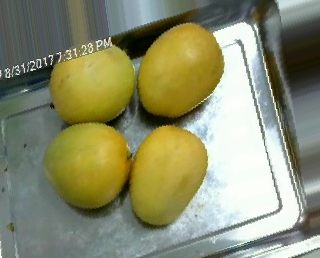Mango: (136, 23, 224, 117), (42, 122, 131, 210), (130, 126, 208, 225), (50, 42, 134, 124)
